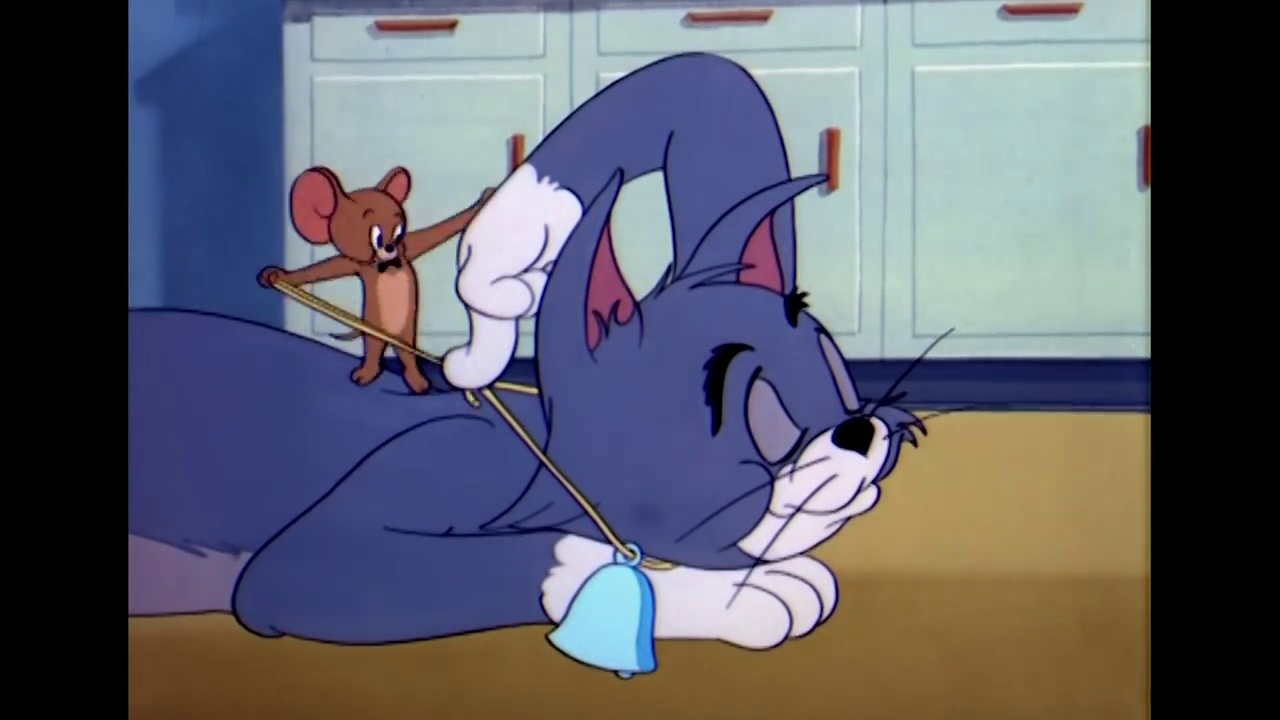tom: (522, 161, 932, 573)
